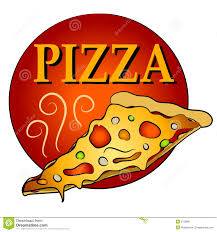pizza: (24, 94, 212, 205)
